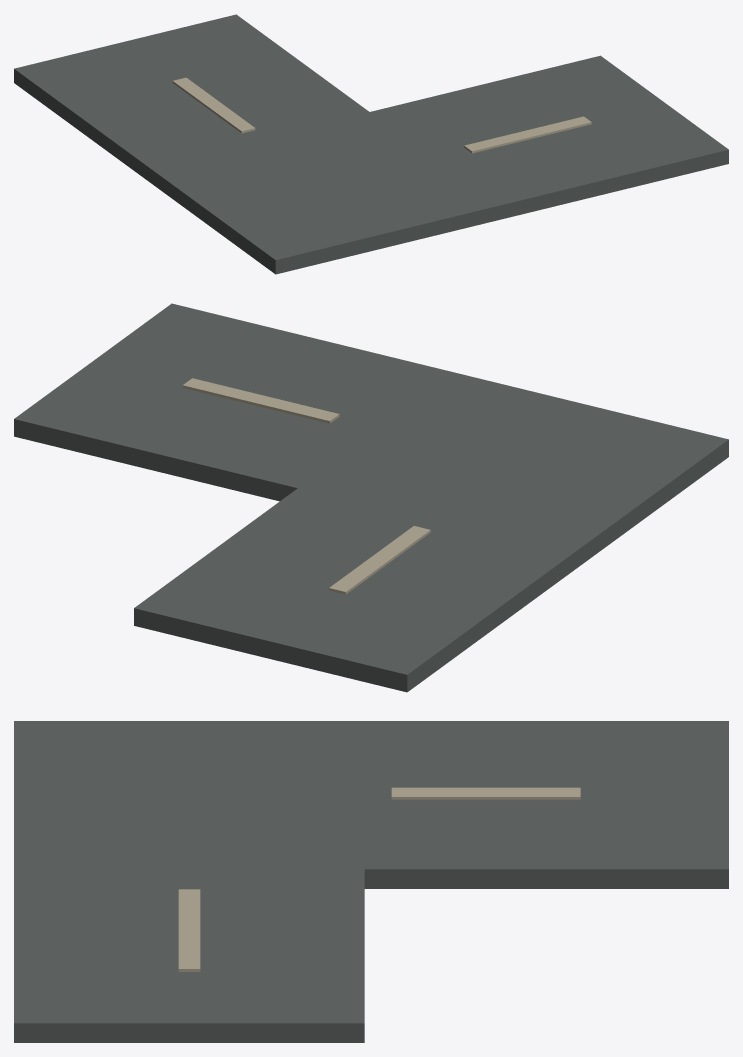
Rendered from road-corner.glb.
3 renders of one model, top to bottom at view 1: azimuth 30°, elevation 25°; view 2: azimuth 150°, elevation 25°; view 3: azimuth 270°, elevation 25°, orthographic. The views are drawn at different scales.
Parts seen in each view (by area): view 1: road-corner-0, road-corner-1, road-corner-3, road-corner-2; view 2: road-corner-0, road-corner-1, road-corner-3, road-corner-2; view 3: road-corner-0, road-corner-1, road-corner-2, road-corner-3.
Boxes of the visible parts, <box> form: road-corner-0: <box>14,14,497,274</box>; road-corner-1: <box>259,55,728,244</box>; road-corner-3: <box>464,116,591,153</box>; road-corner-2: <box>172,77,255,133</box>; road-corner-0: <box>134,373,728,692</box>; road-corner-1: <box>14,303,591,521</box>; road-corner-3: <box>182,378,339,423</box>; road-corner-2: <box>329,526,430,594</box>; road-corner-0: <box>14,721,728,888</box>; road-corner-1: <box>14,799,364,1042</box>; road-corner-2: <box>391,787,580,799</box>; road-corner-3: <box>178,889,200,971</box>.
Size of the model in its own units: 2.65 by 0.092 by 2.65.
